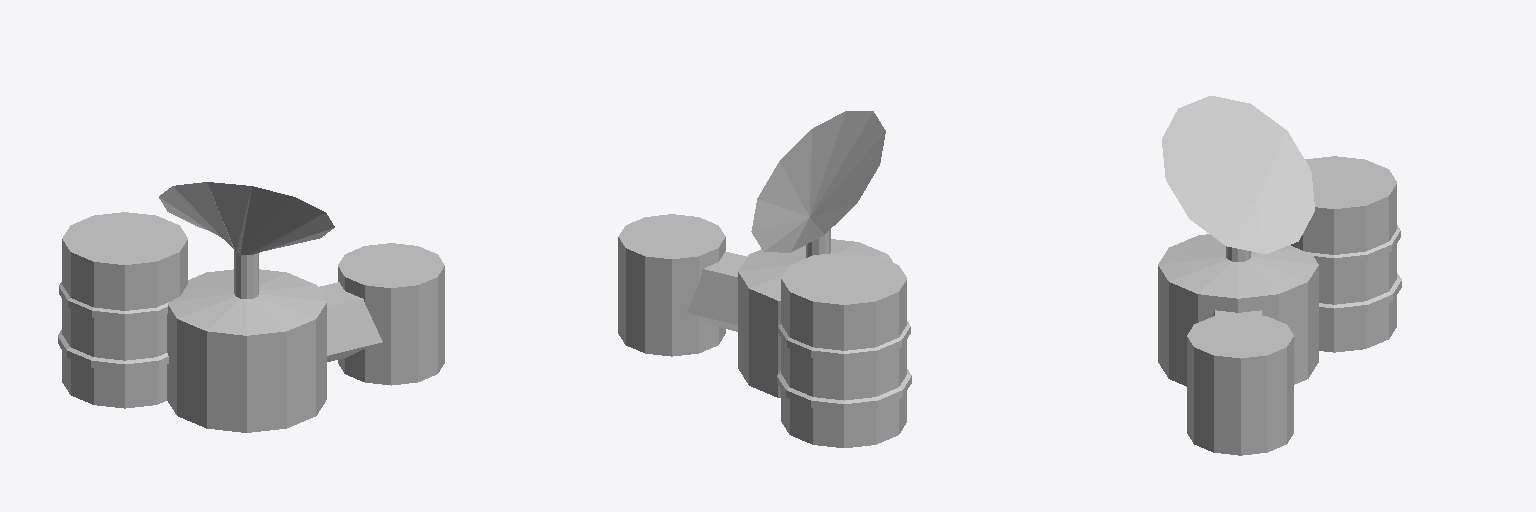
Rendered from fuelbase.obj.
3 renders of one model, left to right at view 1: azimuth 30°, elevation 25°; view 2: azimuth 150°, elevation 25°; view 3: azimuth 270°, elevation 25°, orthographic.
Visible parts, largest first — view 1: pCylinder2, pasted__pCylinder8 group, pCylinder3, pCylinder1; view 2: pasted__pCylinder8 group, pCylinder2, pCylinder3, pCylinder1; view 3: pCylinder2, pasted__pCylinder8 group, pCylinder3.
Boxes of the visible parts, x1,y1,x2,y2 form: pCylinder2: [159, 182, 334, 432]; pasted__pCylinder8 group: [58, 212, 187, 408]; pCylinder3: [338, 243, 444, 385]; pCylinder1: [318, 282, 382, 361]; pasted__pCylinder8 group: [777, 252, 911, 447]; pCylinder2: [738, 111, 892, 397]; pCylinder3: [618, 214, 725, 356]; pCylinder1: [686, 251, 746, 331]; pCylinder2: [1158, 96, 1318, 386]; pasted__pCylinder8 group: [1291, 156, 1401, 352]; pCylinder3: [1187, 313, 1293, 455].
Bounding box in the file's own units: 6.98 × 4.96 × 4.55.